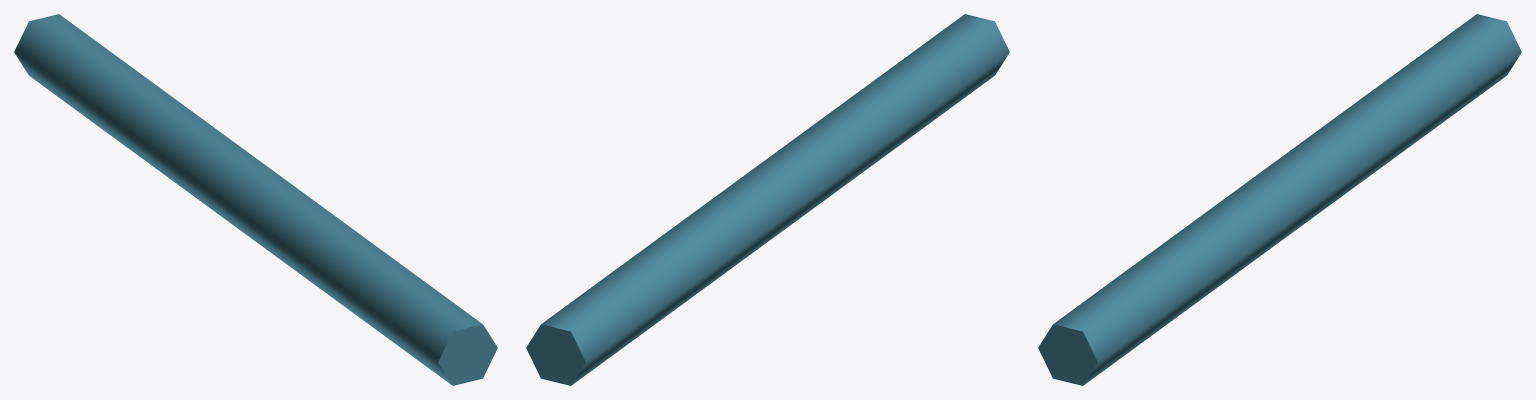
File: cigarette.FBX
The picture shows the model from 3 angles, left to right: view 1: azimuth 30°, elevation 25°; view 2: azimuth 150°, elevation 25°; view 3: azimuth 330°, elevation 25°; orthographic projection.
Visible parts, largest first — view 1: Object1108; view 2: Object1108; view 3: Object1108.
Boxes of the visible parts, x1,y1,x2,y2 form: Object1108: (14, 14, 497, 385); Object1108: (526, 14, 1009, 385); Object1108: (1038, 14, 1521, 385).
Size of the model in its own units: 0.0144 by 0.0125 by 0.176.
